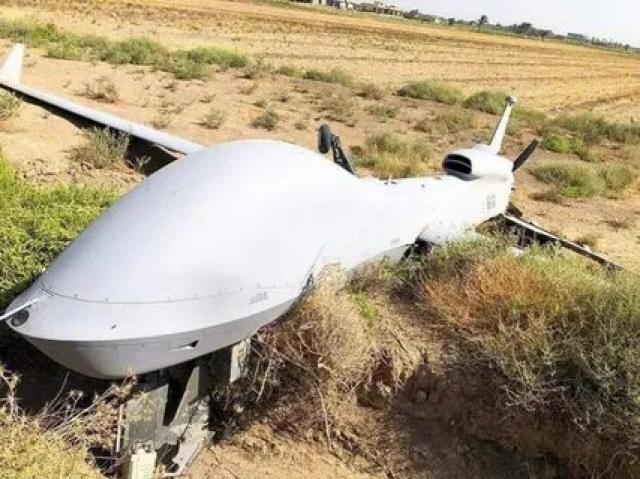military drone: (0, 42, 640, 382)
